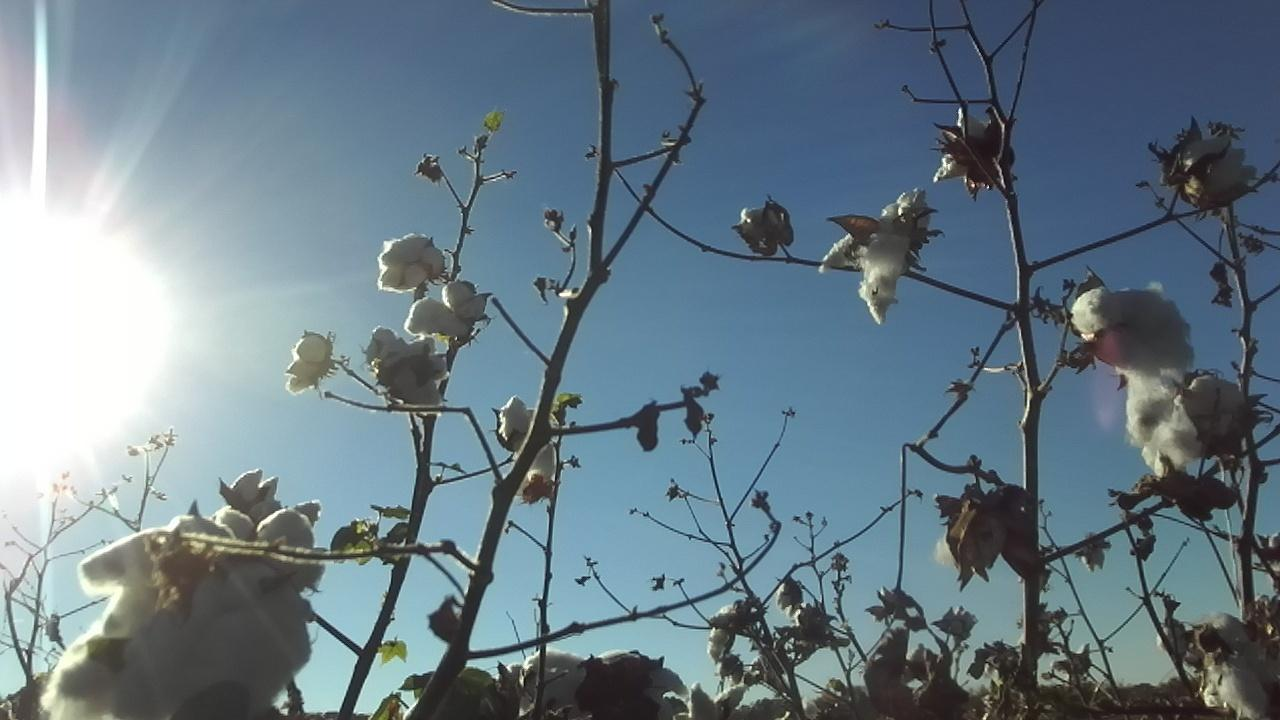cotton_ready: (116, 562, 319, 720), (59, 527, 171, 720), (817, 190, 929, 327), (177, 511, 327, 590), (1074, 285, 1194, 374), (1117, 362, 1198, 478), (1199, 610, 1280, 720), (932, 107, 1014, 182), (934, 513, 1033, 572), (379, 337, 451, 411), (232, 470, 323, 527), (1180, 380, 1252, 451), (1180, 135, 1257, 201), (522, 654, 597, 720), (615, 655, 689, 720), (501, 396, 556, 479), (405, 282, 489, 335), (379, 234, 445, 293), (287, 335, 329, 390), (739, 207, 777, 235), (134, 614, 152, 614)
